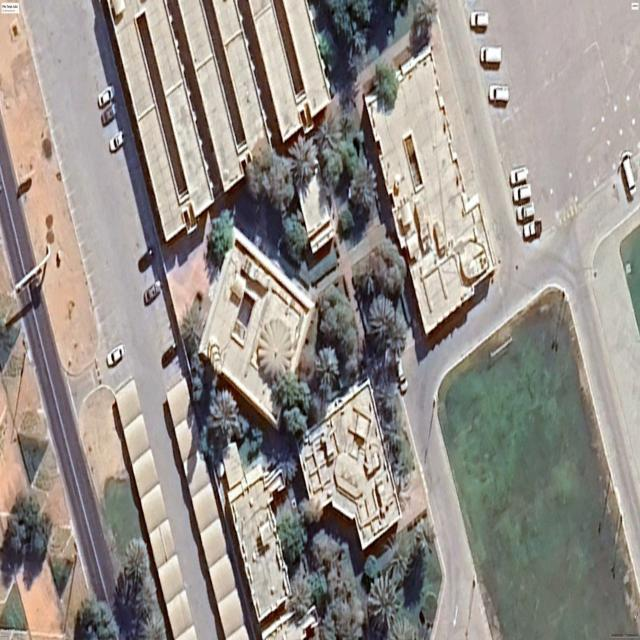mosque: (199, 227, 313, 425)
